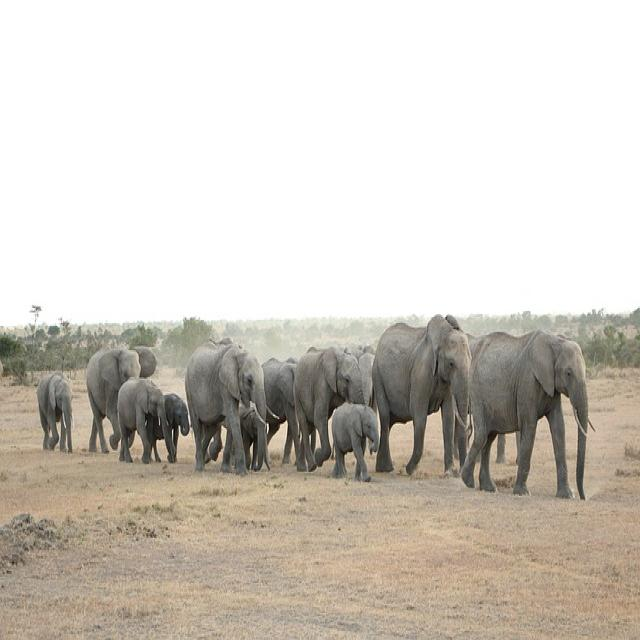elephant: (461, 331, 589, 500), (372, 315, 470, 475), (185, 342, 266, 474), (294, 347, 364, 470), (86, 349, 141, 454), (118, 377, 174, 463), (331, 404, 379, 482), (262, 361, 299, 457), (38, 372, 72, 453), (165, 394, 189, 461), (152, 419, 164, 461)
